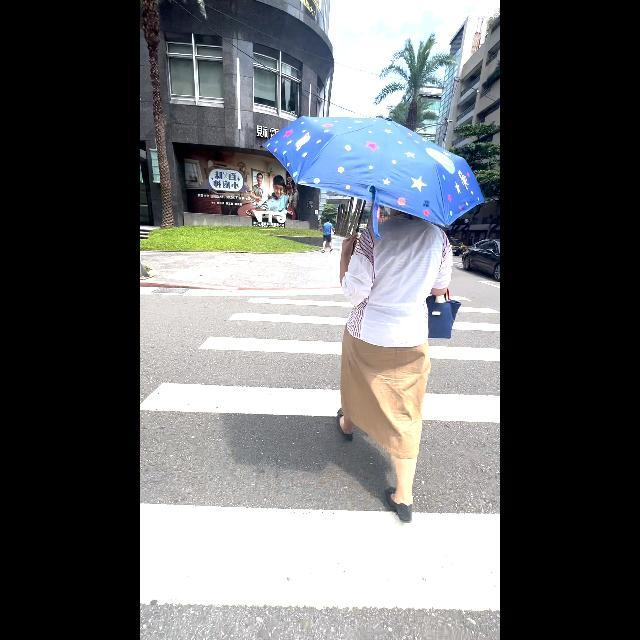sidewalk: (140, 284, 500, 640)
